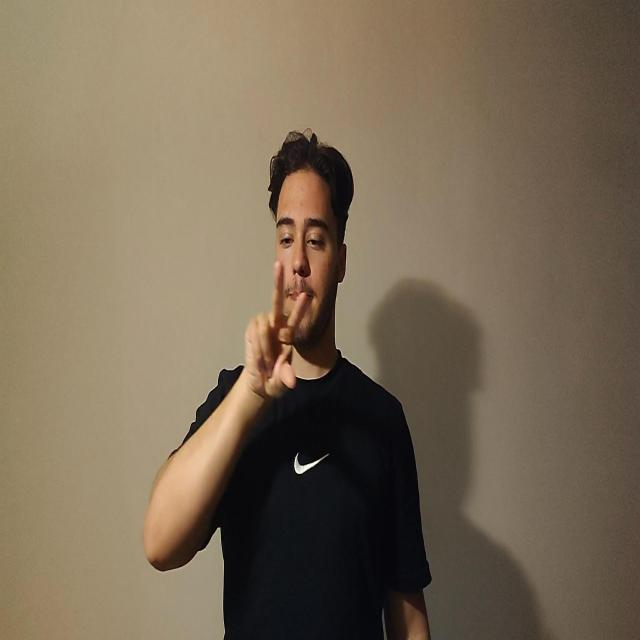no: (243, 259, 308, 402)
